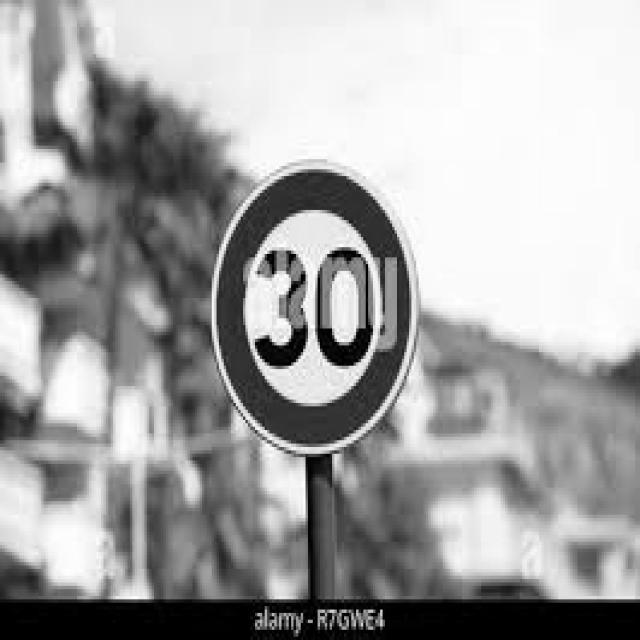speed_30: (210, 164, 417, 458)
